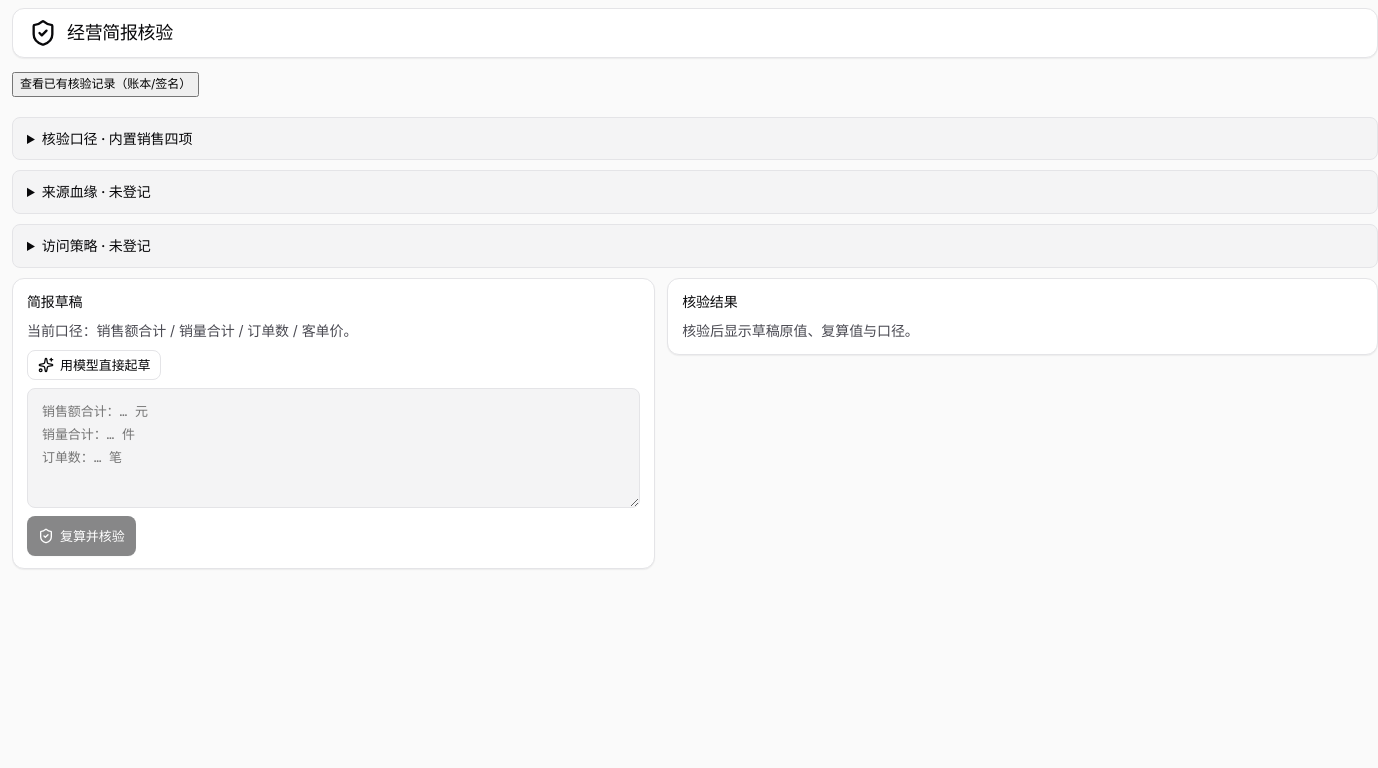
Test case: SalesAudit › 快速起草后核验请求携带轨迹哈希，并在结果区展示绑定
Click the button "用模型直接起草". click: (94, 365)
box: [27,350,162,380]
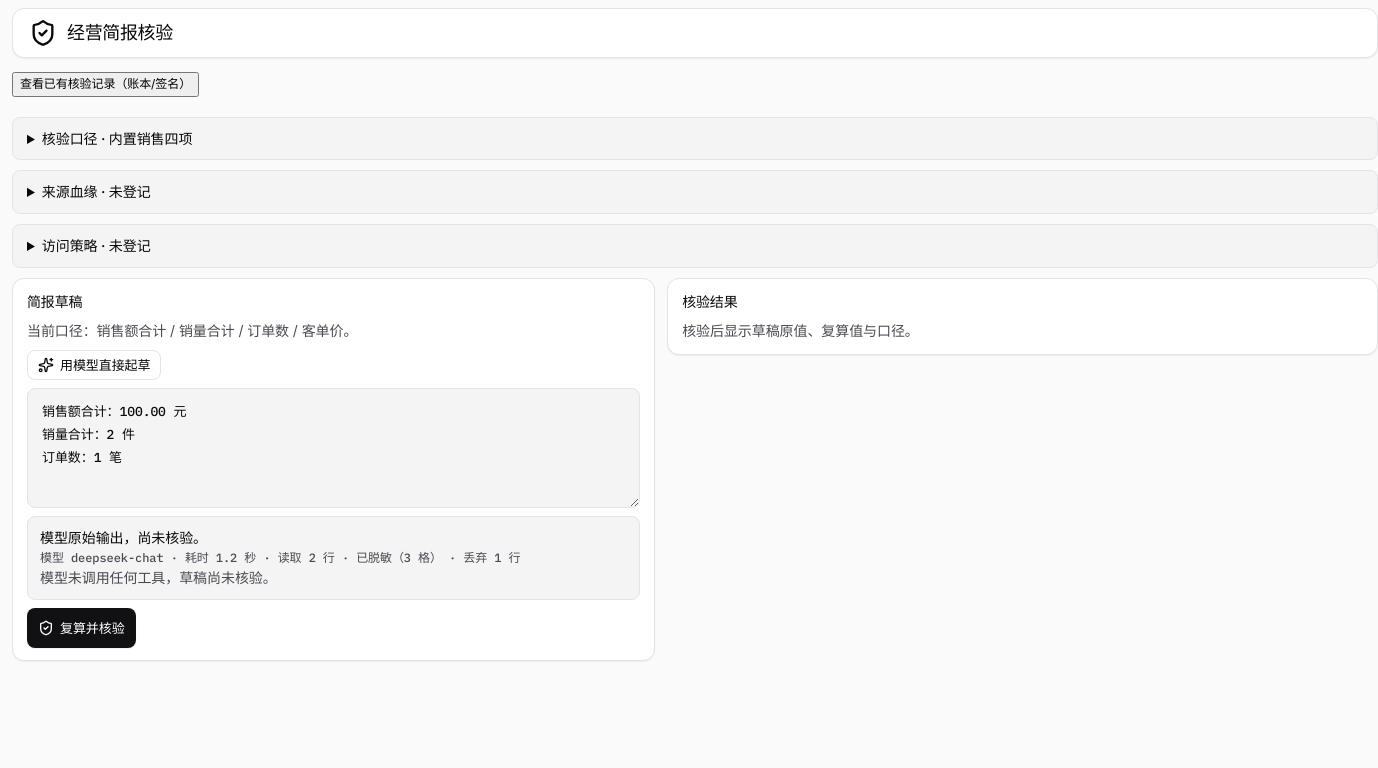
Click the button "复算并核验". click: (81, 628)
box: [27,608,136,648]
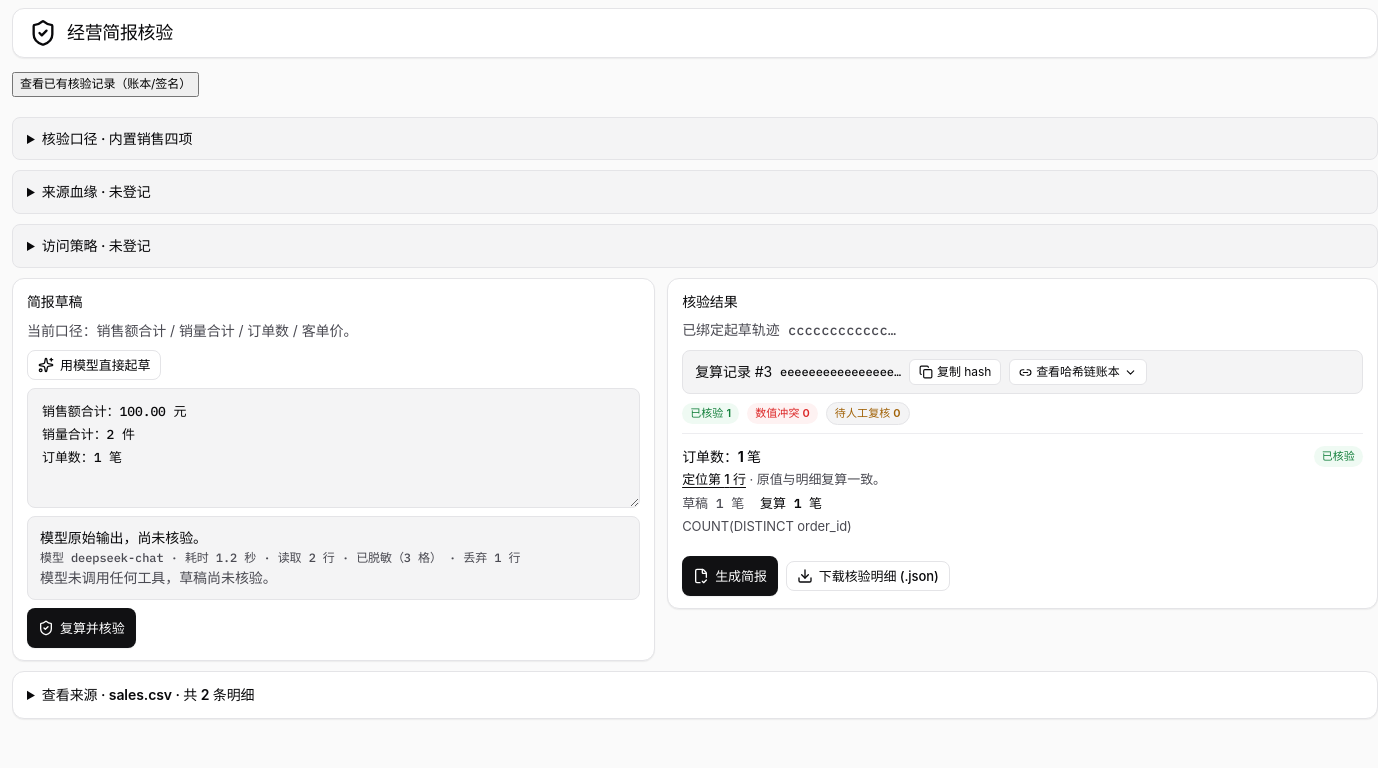
Expected: the text "已核验 1" is shown, [682,403,739,424]
